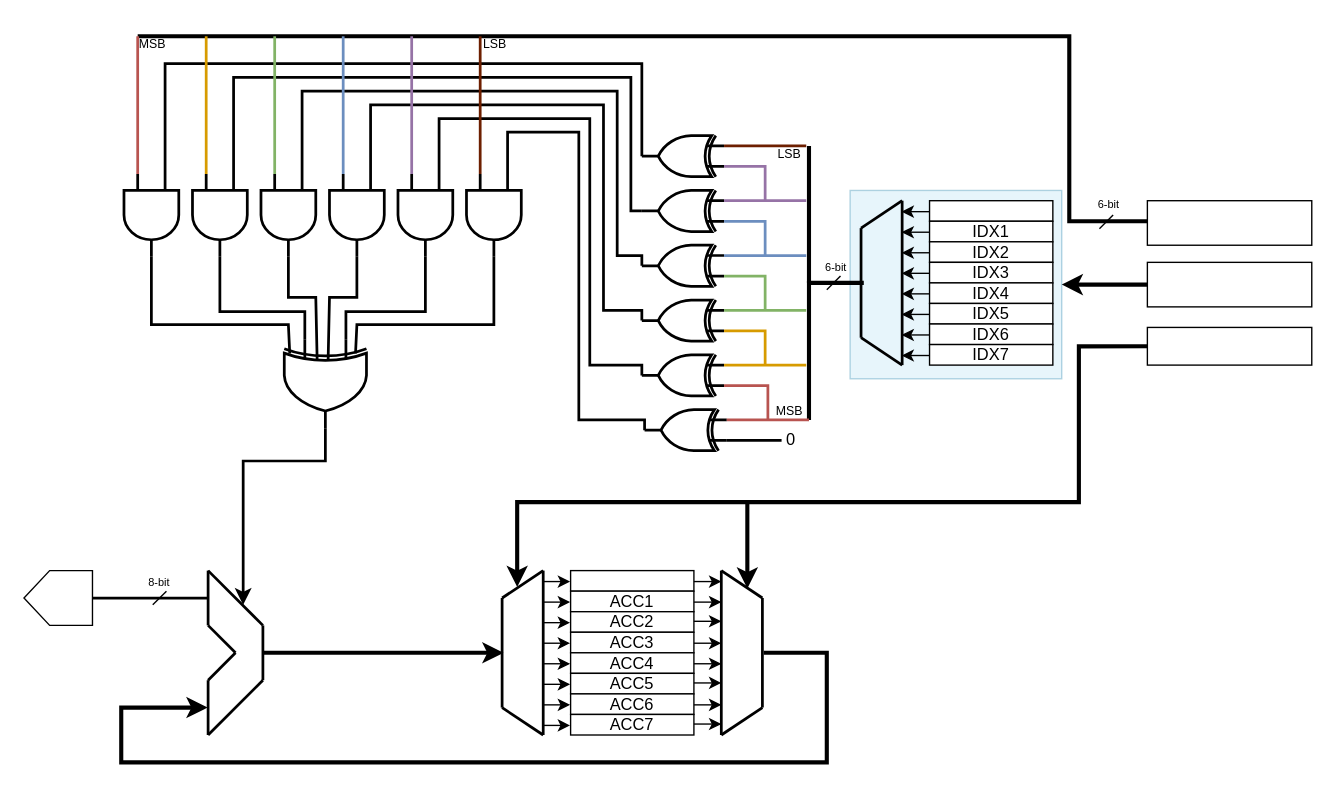
The diagram is 1336 pixels wide and 799 high, and some of its shapes have lost their labels. The box of each missing label's shape, as (x1, y1, x2, y2) in pixels:
ACC0: (569, 569, 694, 591)
ADC: (23, 569, 92, 625)
Column Counter: (1146, 199, 1312, 245)
IDX0: (928, 199, 1053, 221)
Index Configuration: (1146, 261, 1312, 307)
Row Counter: (1146, 326, 1312, 365)
